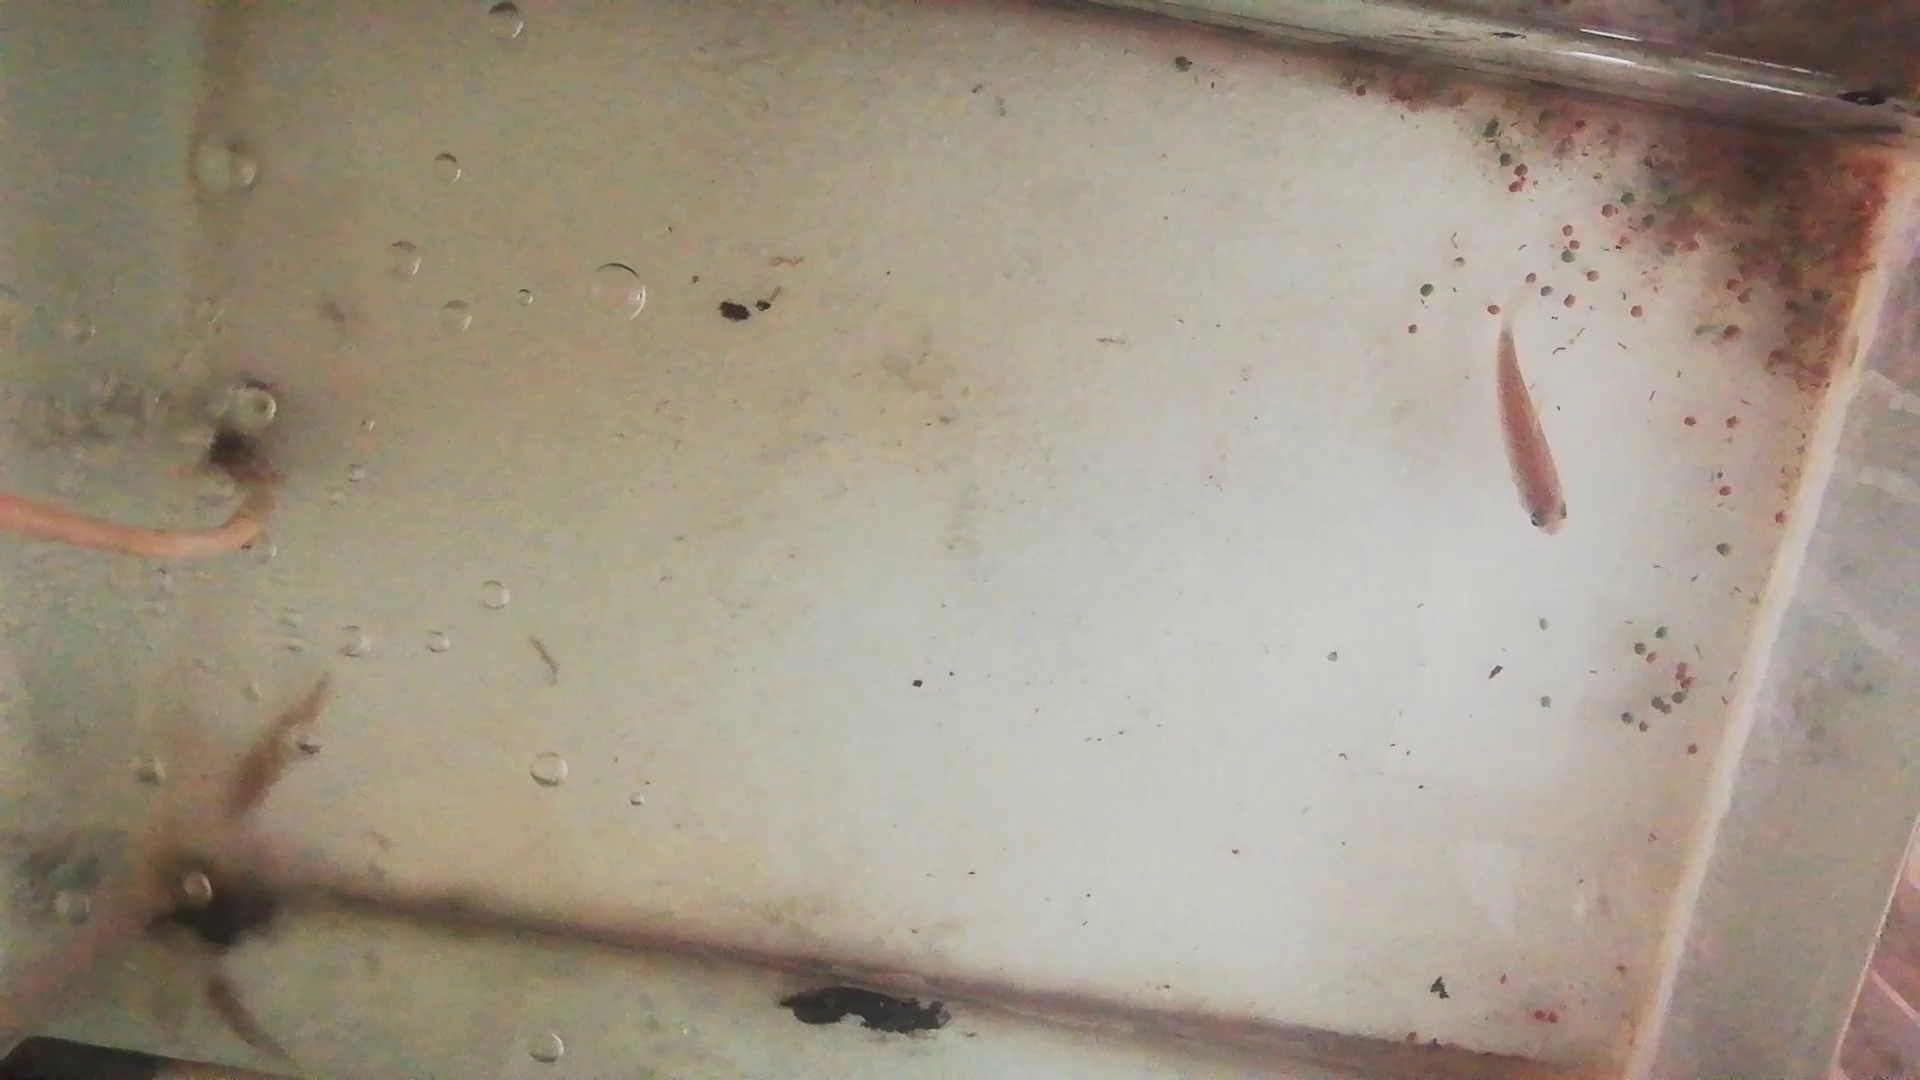fish: (219, 671, 328, 819), (1497, 327, 1567, 542)
